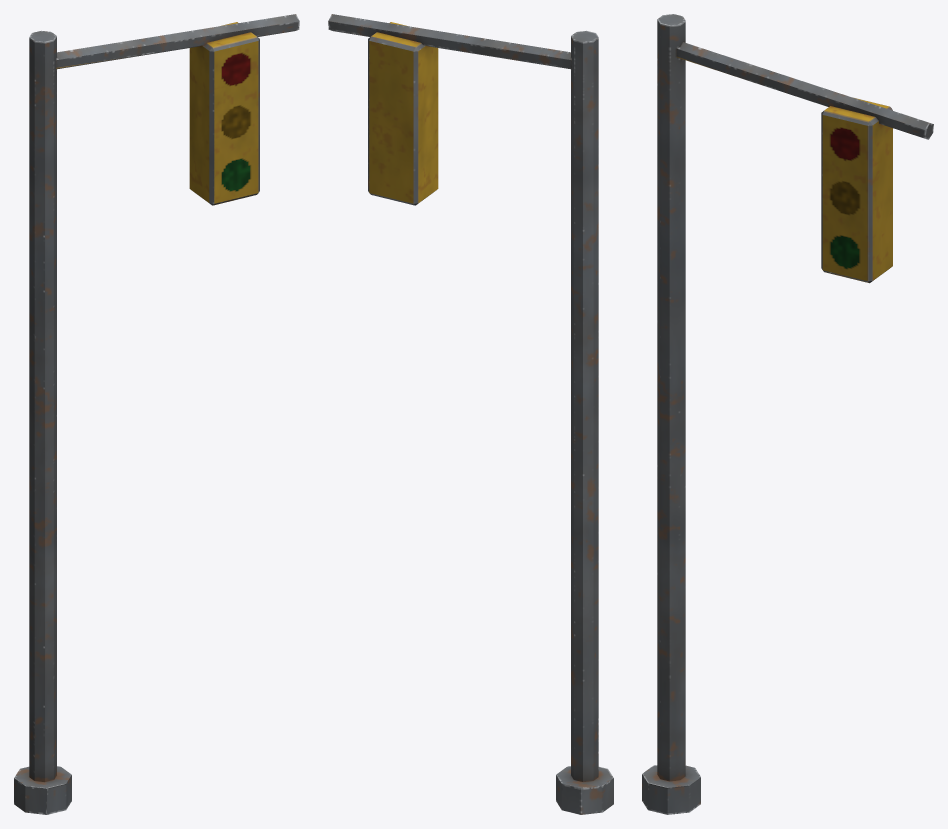
Rendered from Semaforo_Torcido.glb.
3 views of the same model, side by side, from view 1: azimuth 30°, elevation 25°; view 2: azimuth 150°, elevation 25°; view 3: azimuth 330°, elevation 25° (orthographic). The views are drawn at different scales.
Parts seen in each view (by area): view 1: Semaforo_Torcido; view 2: Semaforo_Torcido; view 3: Semaforo_Torcido.
Part boxes in pixels (x1,y1,x2,y2): Semaforo_Torcido: (14, 14, 299, 814); Semaforo_Torcido: (328, 14, 613, 814); Semaforo_Torcido: (642, 14, 933, 814).
Bounding box in the file's own units: 5.47 × 14.5 × 0.9239.
1 material, 1 textured.
